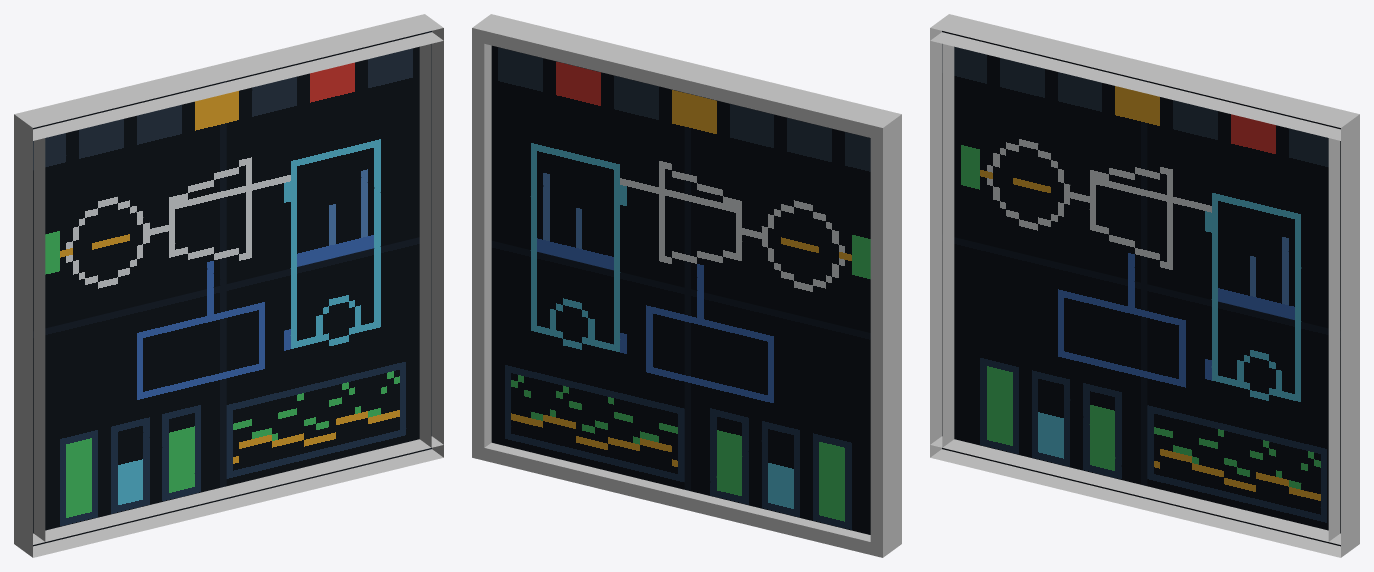
File: wall_display_2x2_item.obj
The picture shows the model from 3 angles, left to right: view 1: azimuth 30°, elevation 25°; view 2: azimuth 150°, elevation 25°; view 3: azimuth 330°, elevation 25°; orthographic projection.
Visible parts, largest first — view 1: wall_display_2x2_item; view 2: wall_display_2x2_item; view 3: wall_display_2x2_item.
Boxes of the visible parts, box(x1,y1,x2,y2) form: wall_display_2x2_item: box(14, 14, 443, 557); wall_display_2x2_item: box(472, 14, 901, 557); wall_display_2x2_item: box(930, 14, 1359, 557).
Size of the model in its own units: 2 by 2 by 0.16.
